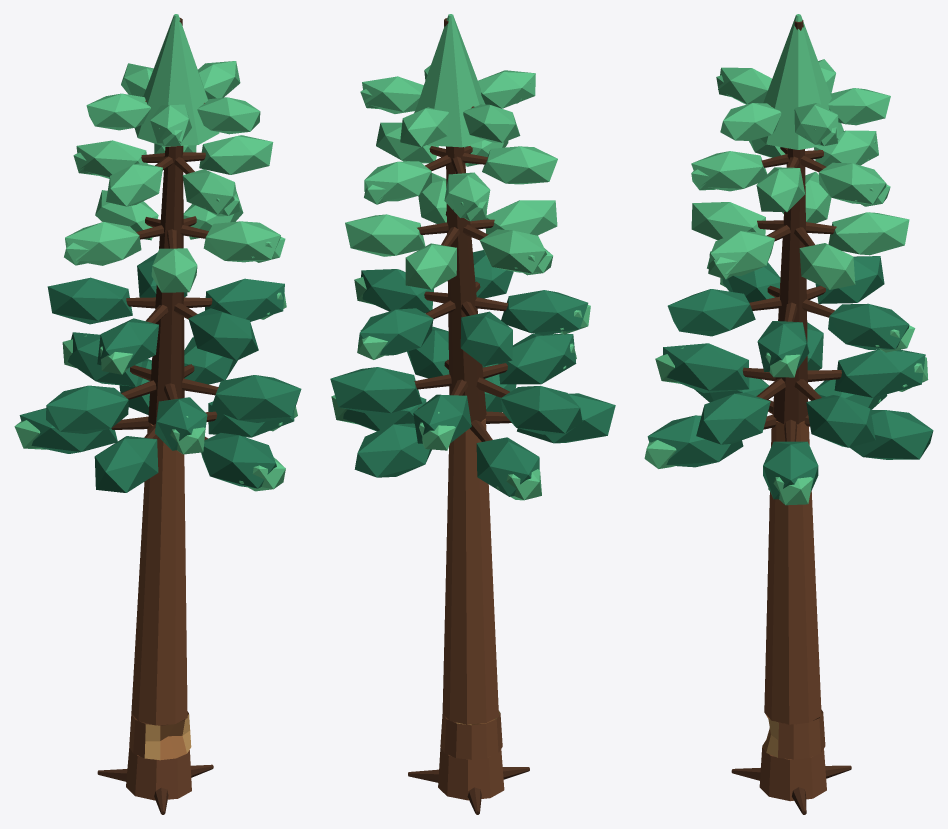
The model's file is harvest_tree_damaged_a.glb.
3 renders of one model, left to right at view 1: azimuth 30°, elevation 25°; view 2: azimuth 150°, elevation 25°; view 3: azimuth 270°, elevation 25°, orthographic.
Visible parts, largest first — view 1: Trunk_Above_Notch, Trunk_Upper.001, Leader_Needles.001, Needles_2_5.001, Needles_2_3.001, Needles_3_2.001, Needles_1_5.001, Needles_1_4.001, Needles_3_4.001, Needles_4_4.001, Trunk_Base, Needles_3_5.001 (+25 smaller); view 2: Trunk_Above_Notch, Leader_Needles.001, Trunk_Upper.001, Needles_2_1.001, Needles_2_3.001, Needles_1_2.001, Needles_3_3.001, Needles_2_4.001, Needles_4_5.001, Trunk_Base, Needles_1_3.001, Needles_3_1.001 (+24 smaller); view 3: Trunk_Above_Notch, Leader_Needles.001, Trunk_Upper.001, Needles_2_2.001, Needles_2_4.001, Needles_3_4.001, Needles_2_5.001, Needles_3_1.001, Needles_1_2.001, Needles_2_1.001, Needles_4_1.001, Trunk_Base (+24 smaller).
Part boxes in pixels (x1,y1,x2,y2): Trunk_Above_Notch: (131,423,187,725); Trunk_Upper.001: (148,18,184,425); Leader_Needles.001: (134,14,219,146); Needles_2_5.001: (211,375,301,422); Needles_2_3.001: (46,385,128,433); Needles_3_2.001: (47,277,132,324); Needles_1_5.001: (201,433,276,488); Needles_1_4.001: (94,436,158,492); Needles_3_4.001: (188,308,258,360); Needles_4_4.001: (203,221,280,262); Trunk_Base: (126,747,191,800); Needles_3_5.001: (205,278,284,321); Trunk_Above_Notch: (442,418,498,724); Leader_Needles.001: (414,14,485,147); Trunk_Upper.001: (444,18,486,421); Needles_2_1.001: (330,367,422,415); Needles_2_3.001: (500,386,582,434); Needles_1_2.001: (354,423,431,477); Needles_3_3.001: (501,290,588,335); Needles_2_4.001: (498,334,576,384); Needles_4_5.001: (345,214,425,256); Trunk_Base: (438,747,504,800); Needles_1_3.001: (476,437,539,496); Needles_3_1.001: (358,308,433,355); Trunk_Above_Notch: (764,421,821,724); Leader_Needles.001: (760,14,843,149); Trunk_Upper.001: (773,20,808,424); Needles_2_2.001: (834,349,925,397); Needles_2_4.001: (663,343,749,393); Needles_3_4.001: (667,289,755,336); Needles_2_5.001: (696,392,770,444); Needles_3_1.001: (828,303,909,349); Needles_1_2.001: (850,410,933,459); Needles_2_1.001: (806,395,875,447); Needles_4_1.001: (828,212,909,255); Trunk_Base: (759,747,826,801).
Bounding box in the file's own units: 5.24 × 15.52 × 5.2.
